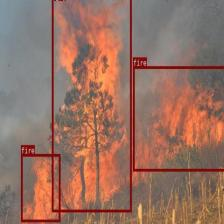fire: (51, 0, 131, 211), (132, 66, 224, 171), (21, 154, 60, 222)
